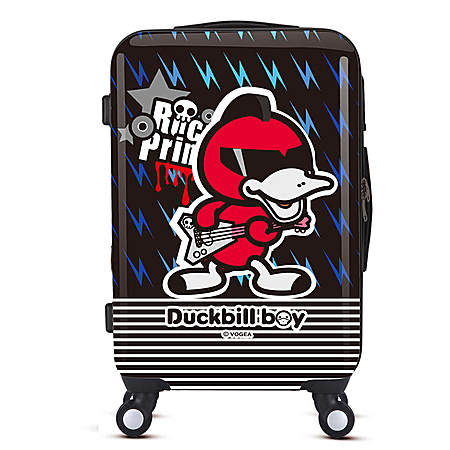box: (110, 30, 361, 392)
handle: (362, 146, 373, 272), (174, 21, 301, 28)
wheel: (116, 400, 153, 437), (319, 402, 355, 438)
